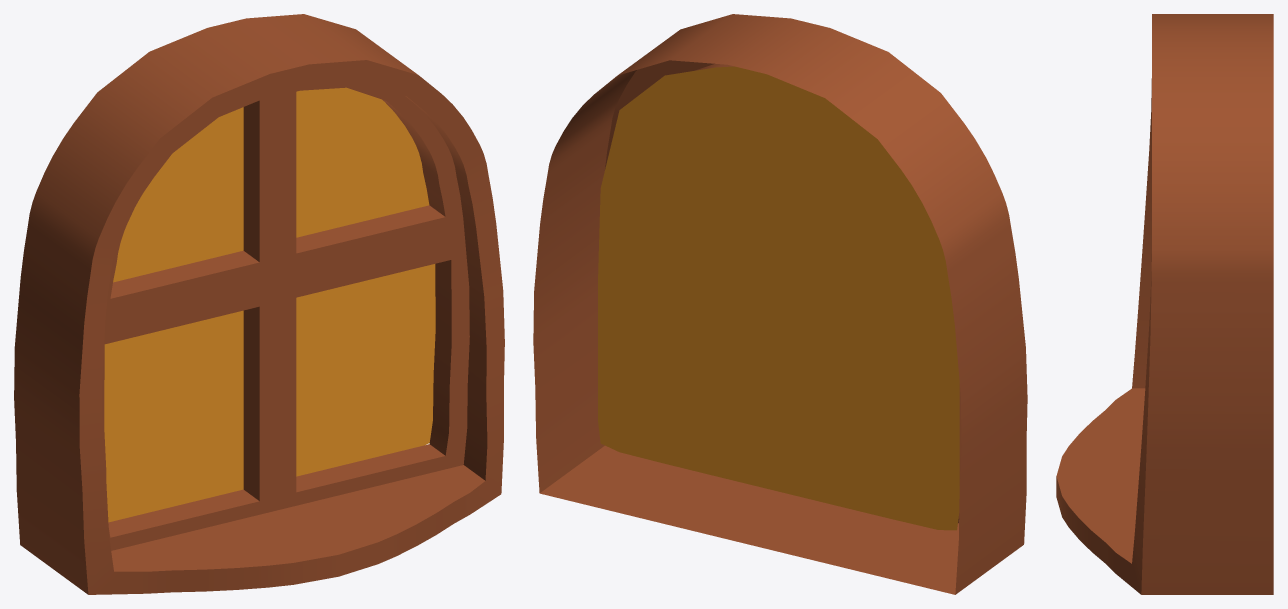
File: yeni_pencere.fbx
3 views of the same model, side by side, from view 1: azimuth 30°, elevation 25°; view 2: azimuth 150°, elevation 25°; view 3: azimuth 270°, elevation 25° (orthographic). The views are drawn at different scales.
Parts seen in each view (by area): view 1: Cube.006; view 2: Cube.006; view 3: Cube.006.
Part boxes in pixels (x1=…): Cube.006: x1=14, y1=14, x2=504, y2=594; Cube.006: x1=533, y1=14, x2=1027, y2=594; Cube.006: x1=1056, y1=14, x2=1273, y2=594.
Bounding box in the file's own units: 58.63 × 62.11 × 26.77.
